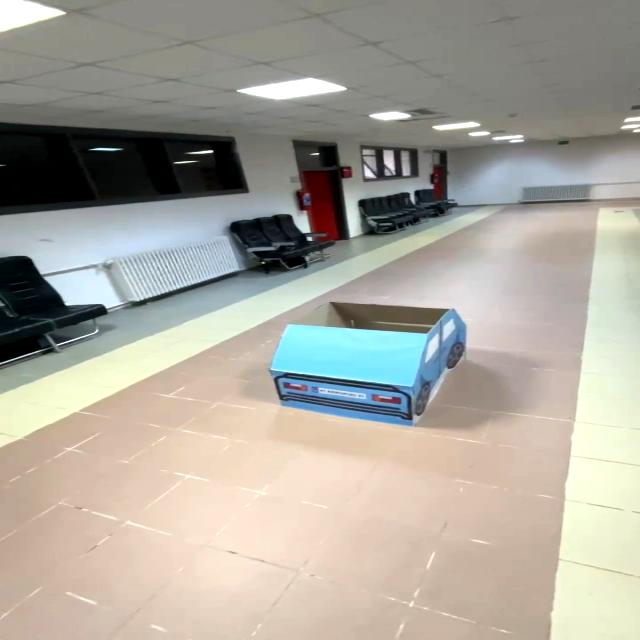blue_car: (231, 294, 489, 441)
